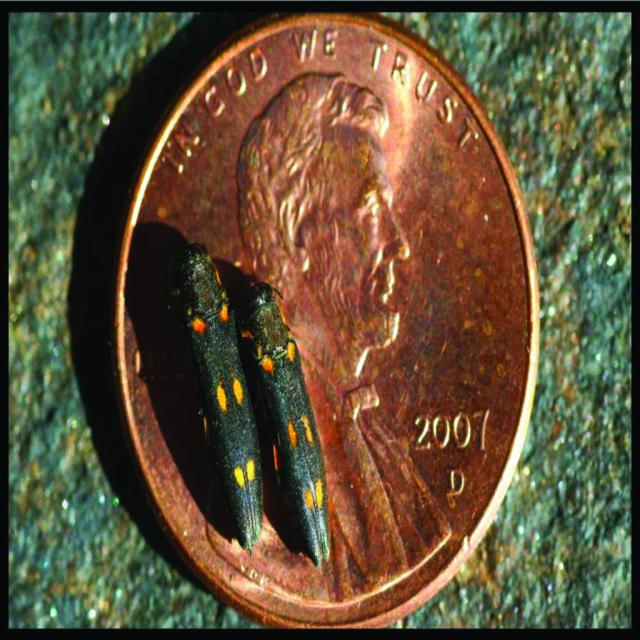Coin: (121, 15, 539, 628)
